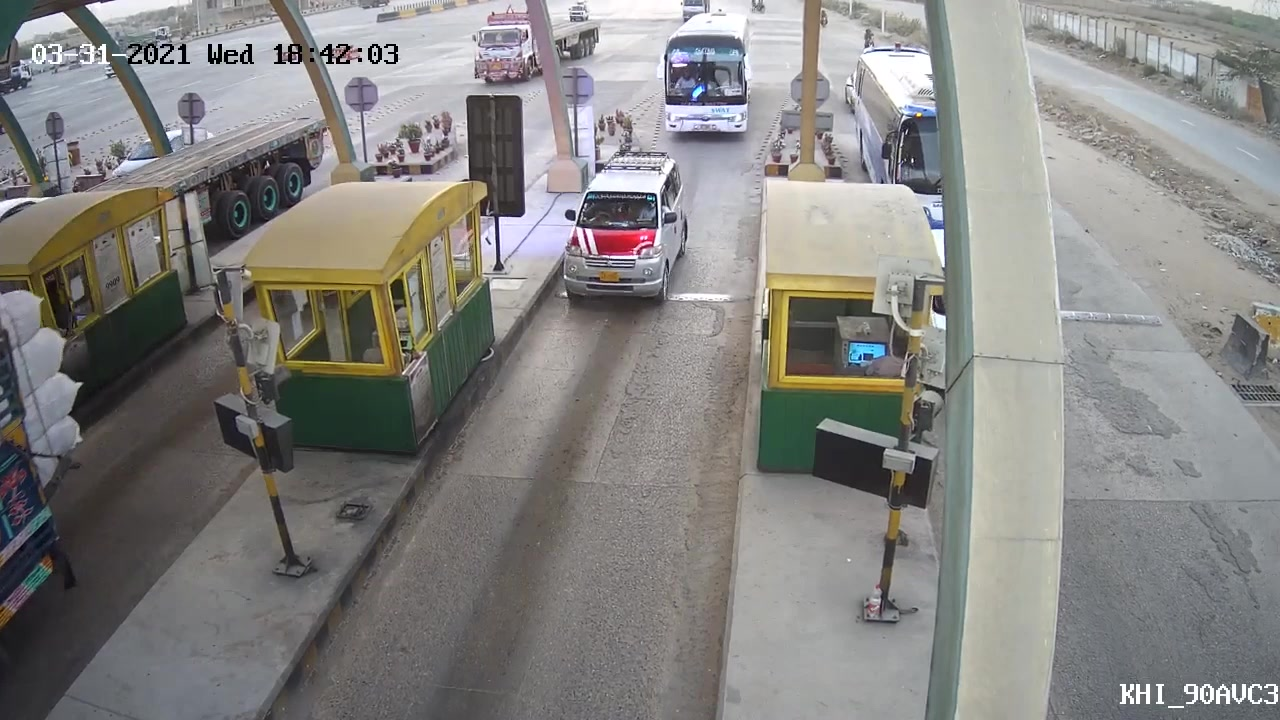F1: (557, 150, 701, 322)
F4: (663, 7, 753, 142)
